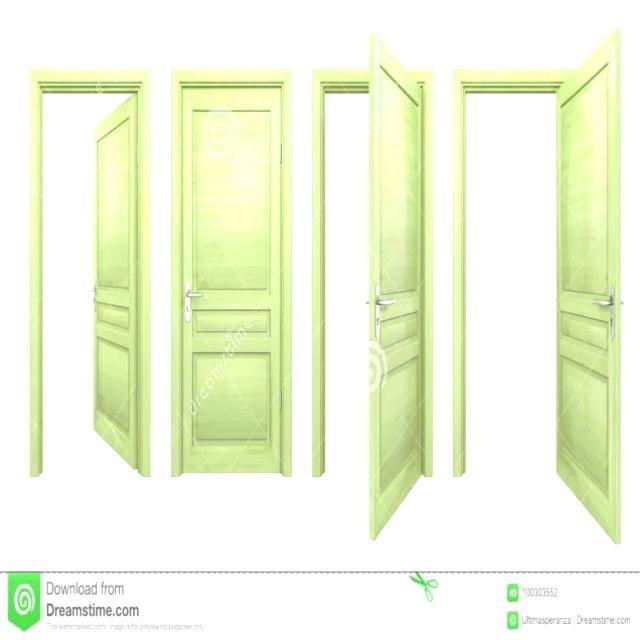door: (173, 75, 288, 476), (356, 29, 436, 547), (554, 31, 621, 544), (82, 93, 145, 476)
